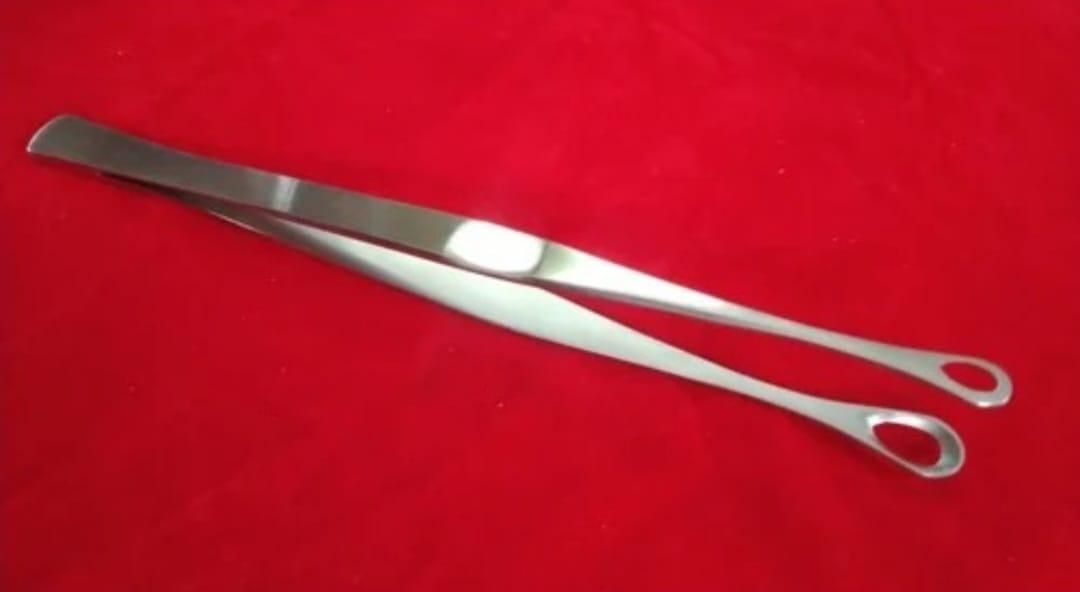Eye Intestinal Forceps: (23, 101, 1015, 492)
